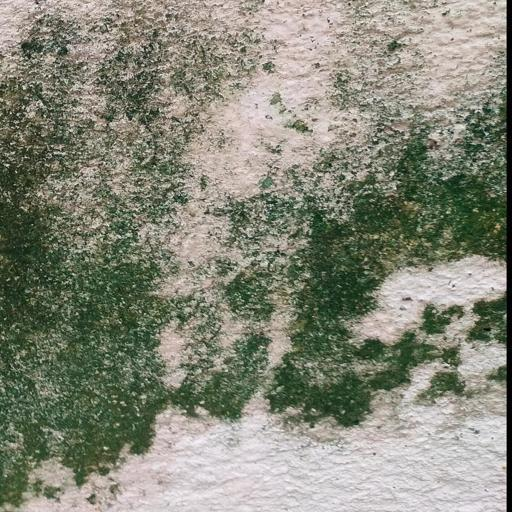algae: (0, 46, 512, 461)
